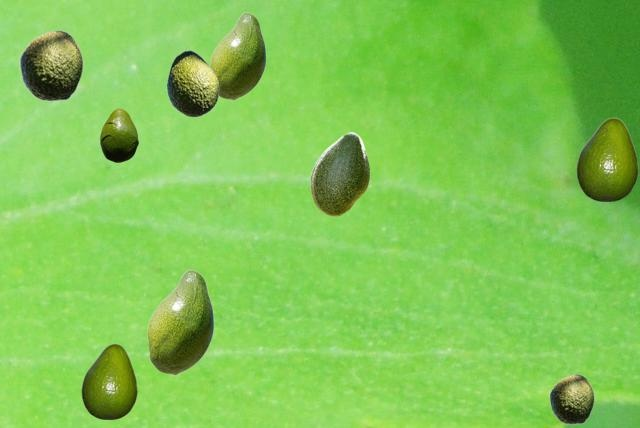avocado: (147, 269, 213, 374), (576, 117, 637, 200), (310, 132, 368, 215), (210, 12, 265, 99), (19, 30, 82, 100), (81, 343, 136, 418), (166, 50, 218, 116), (549, 374, 593, 423), (100, 108, 137, 161)
